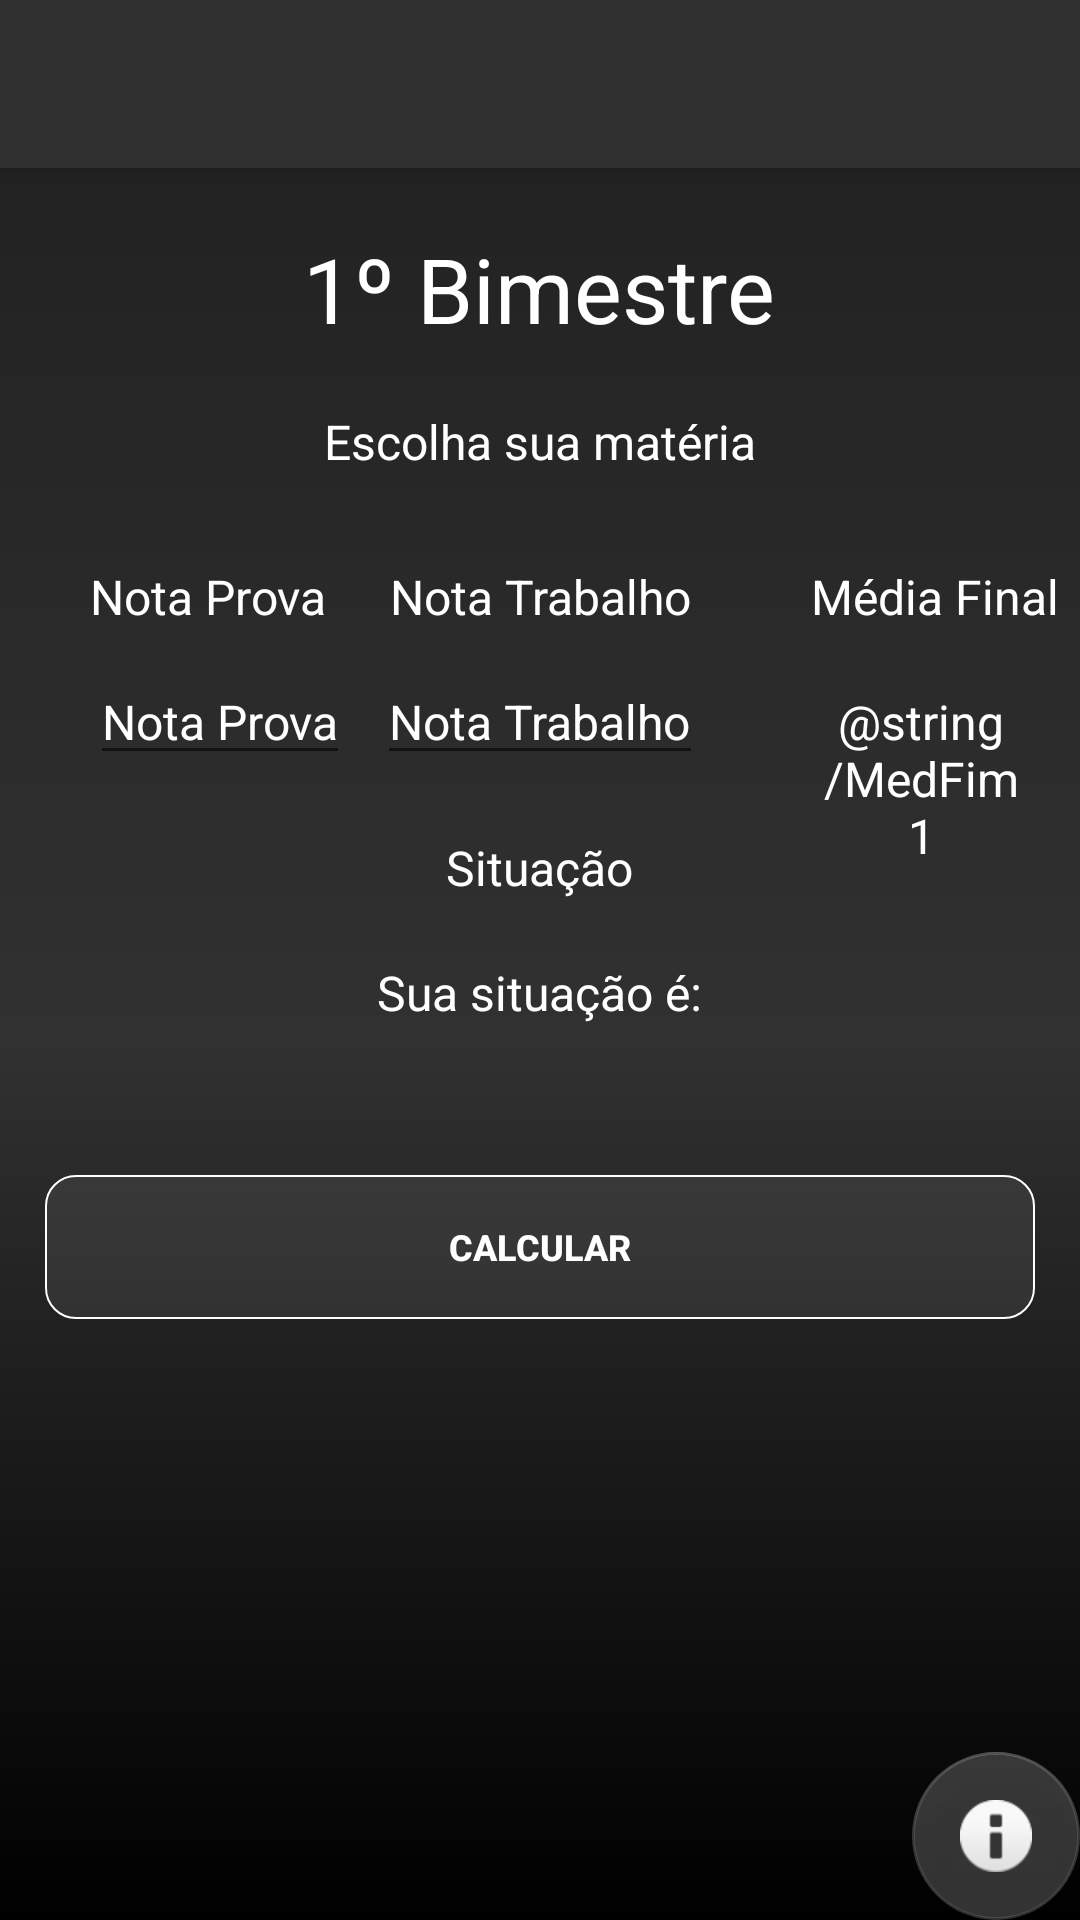

Where icons sit on this 1080x1920 app screen, as (x1, y1, x2, y2):
info: (912, 1752, 1080, 1920)
